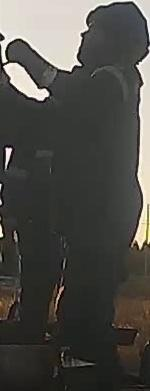gloves: (5, 37, 63, 90)
helmet: (79, 0, 150, 48)
vest: (63, 62, 141, 236)
